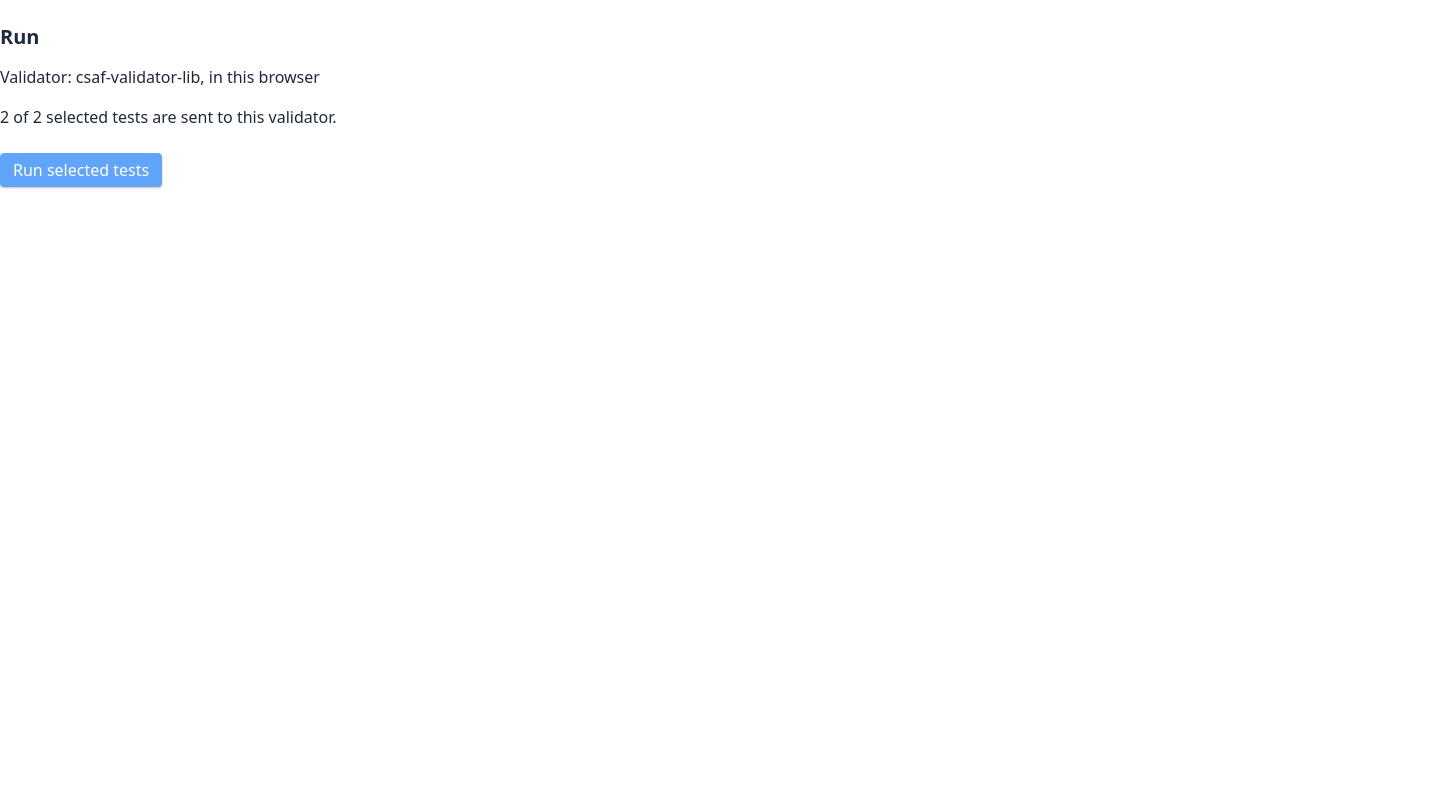
confirming network-enabled tests › does not start when the user backs out, and asks again next time
Step 1. Click the button "Run selected tests" → (81, 170), box x1=0 y1=153 x2=162 y2=187
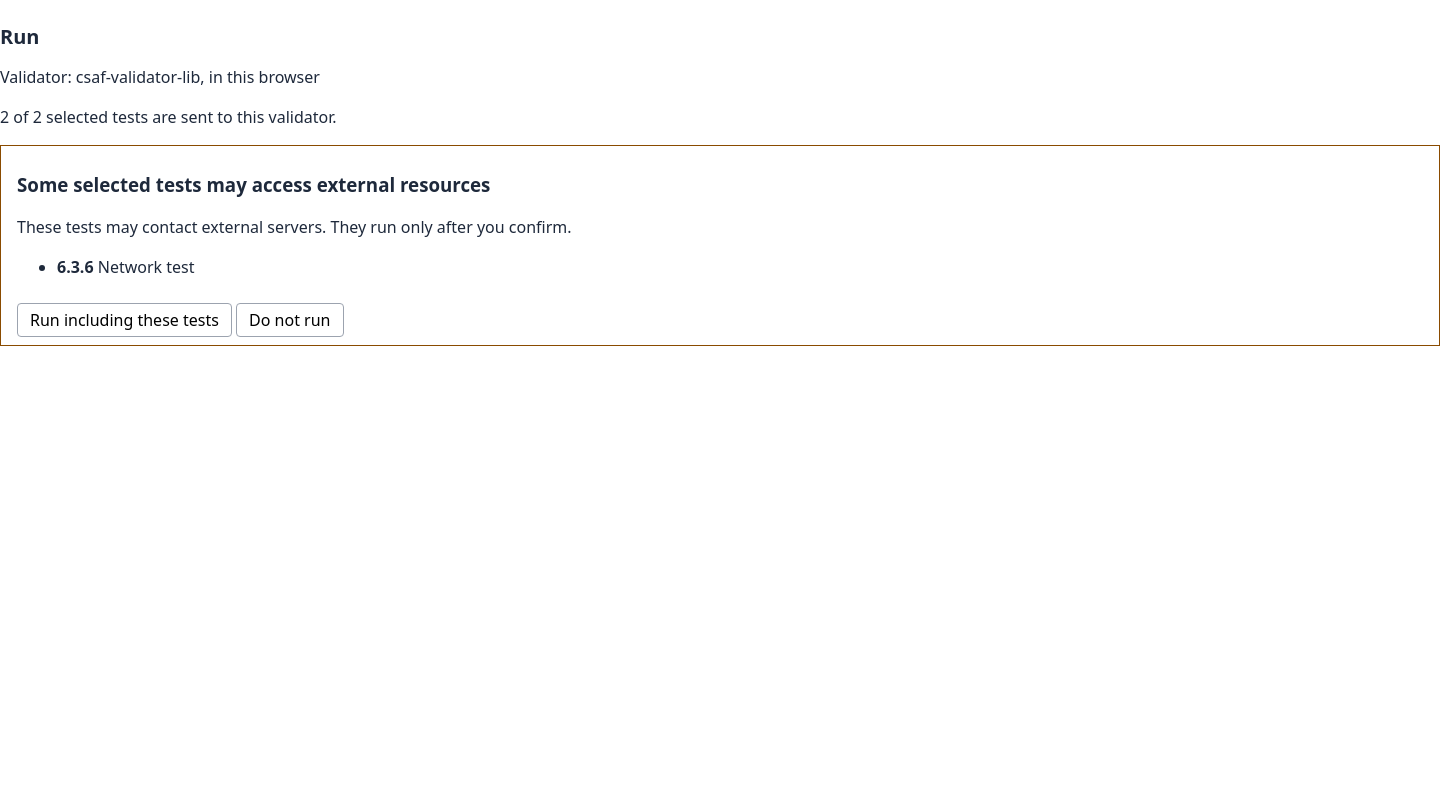
Step 2. Click the button "Do not run" → (290, 320), box x1=236 y1=303 x2=344 y2=337
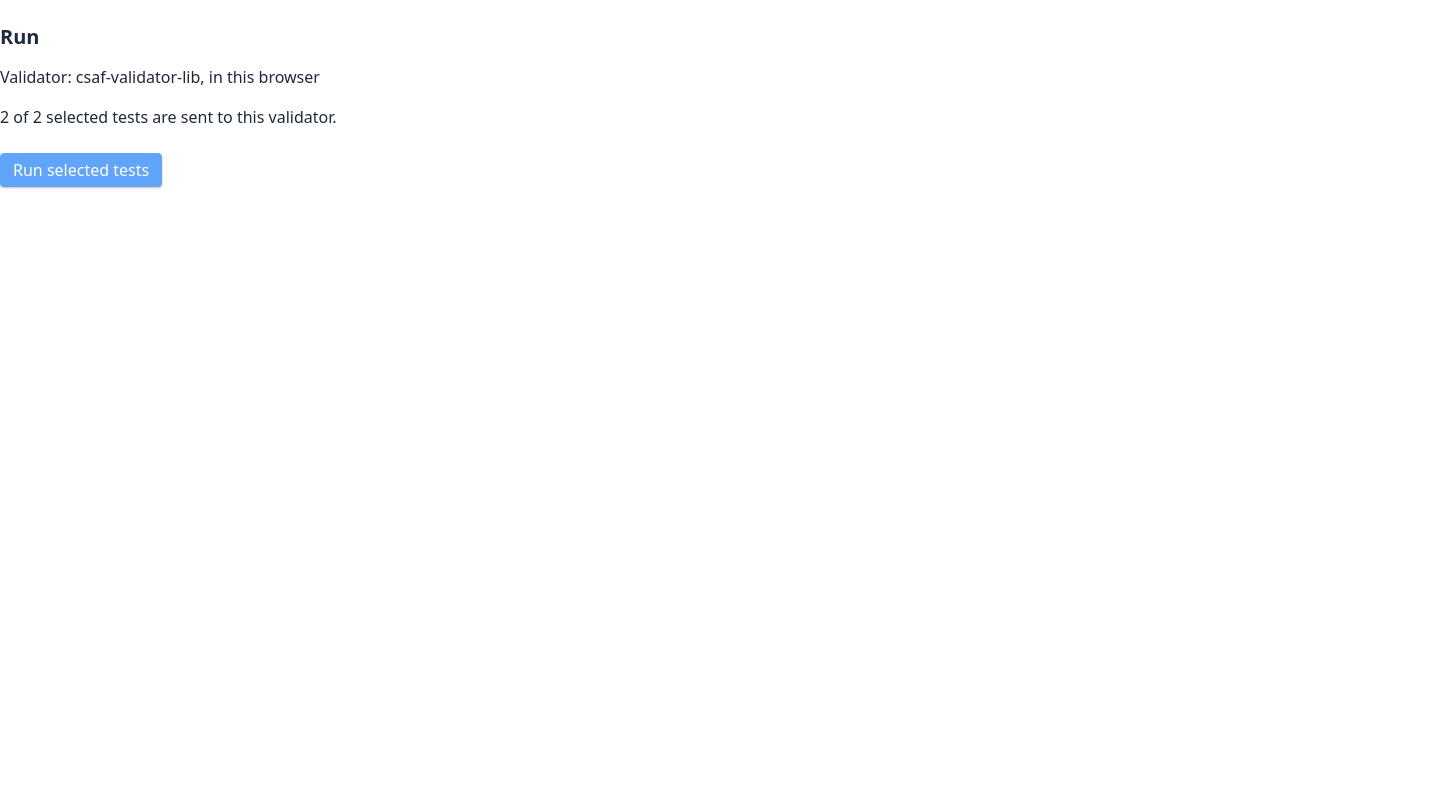
Expected: the dialog is gone
Step 3. Click the button "Run selected tests" → (81, 170), box x1=0 y1=153 x2=162 y2=187
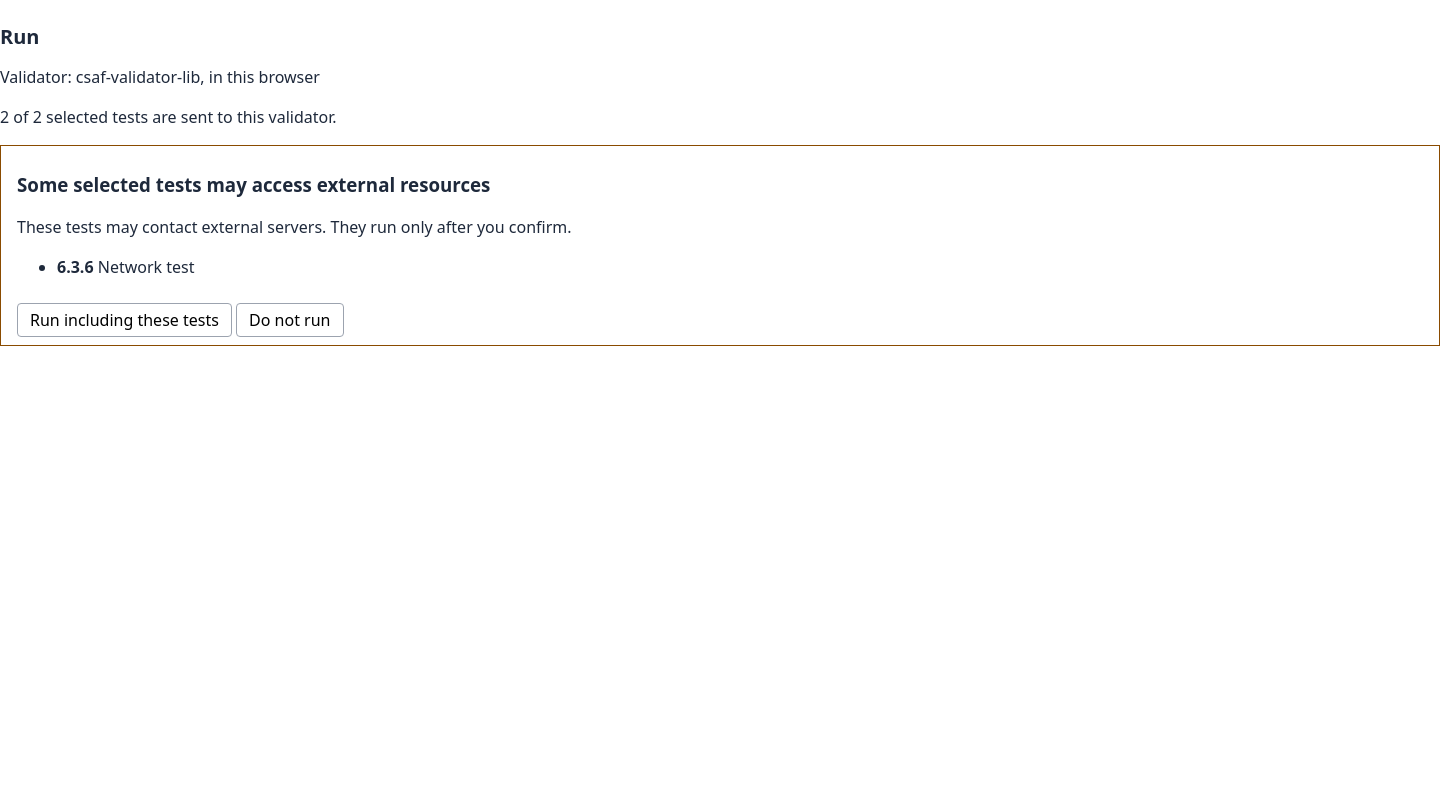
Expected: the dialog is shown, x1=0 y1=145 x2=1439 y2=346
